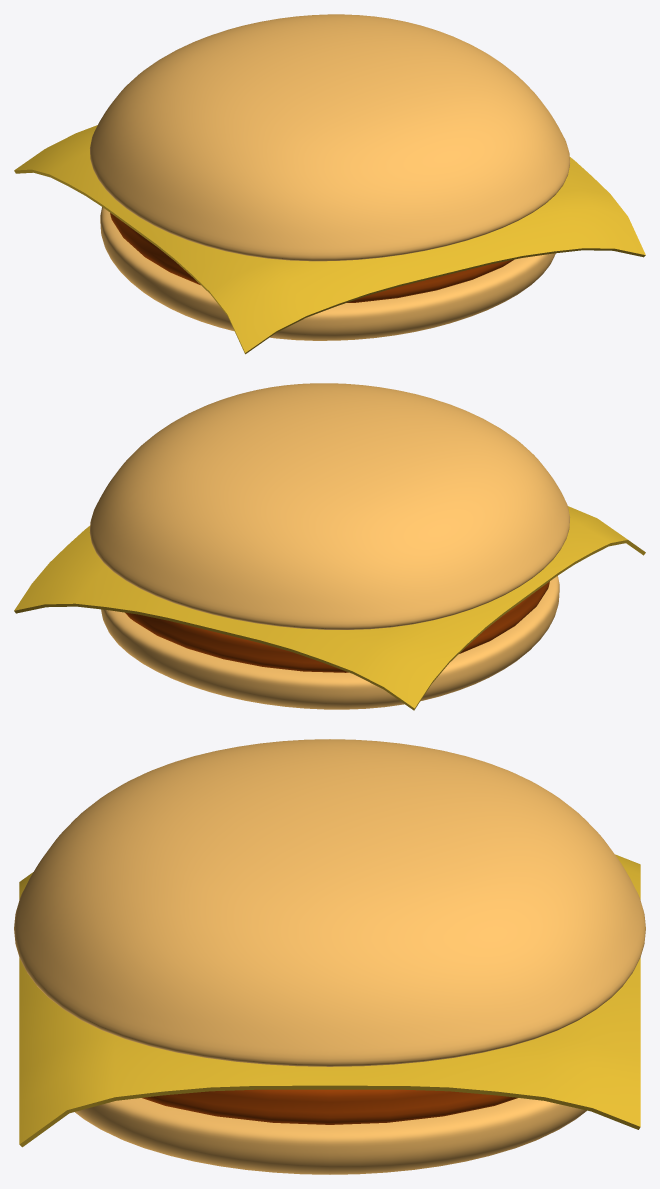
File: burger.glb
The picture shows the model from 3 angles, top to bottom: view 1: azimuth 30°, elevation 25°; view 2: azimuth 150°, elevation 25°; view 3: azimuth 270°, elevation 25°; orthographic projection. The views are drawn at different scales.
Visible parts, largest first — view 1: Cube.002, Plane, Cube, Cube.001; view 2: Cube.002, Plane, Cube, Cube.001; view 3: Cube.002, Plane, Cube, Cube.001.
Boxes of the visible parts, x1,y1,x2,y2 form: Cube.002: (90,14,569,261); Plane: (14,125,645,354); Cube: (100,207,555,340); Cube.001: (110,213,513,302); Cube.002: (89,383,569,629); Plane: (14,506,645,710); Cube: (101,576,559,709); Cube.001: (125,581,549,672); Cube.002: (14,739,645,1066); Plane: (19,854,640,1147); Cube: (75,1098,586,1174); Cube.001: (142,1089,517,1124).
Bounding box in the file's own units: 9.71 × 4.85 × 9.71.
